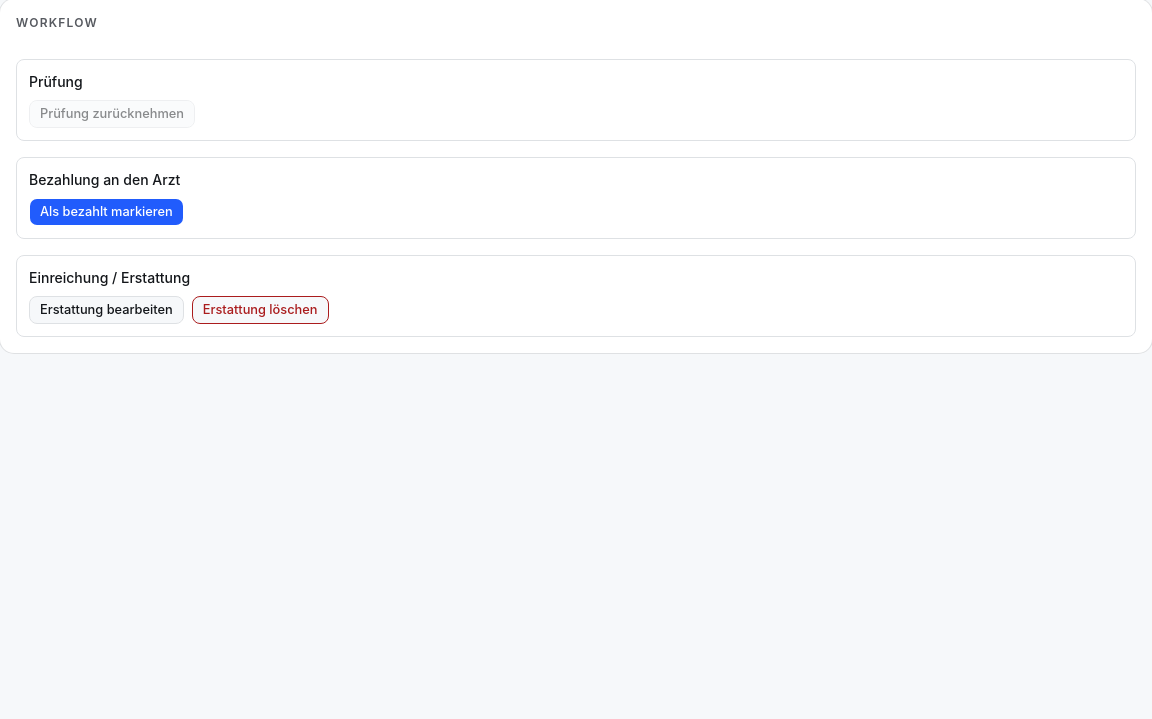
InvoiceStatusFlow — Einreichung / Erstattung track › opens the refund form pre-filled for editing from "Erstattung bearbeiten"
Step 1. Click the button "Erstattung bearbeiten" → click(106, 310), box top-left (29, 296), bottom-right (184, 324)
(page scrolled)
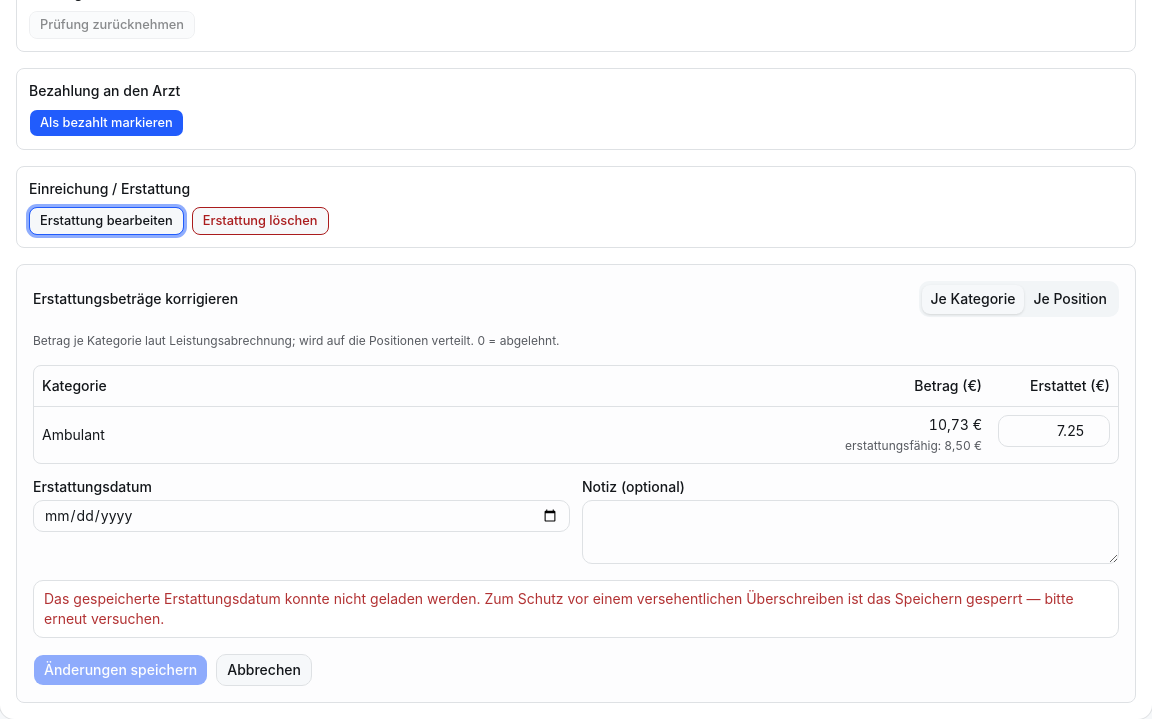
Result: the text "Erstattungsbeträge korrigieren" is shown at top-left (33, 289), bottom-right (238, 309)
Result: the number field named "Erstattungsbetrag für Kategorie Ambulant" holds "7.25" at top-left (998, 414), bottom-right (1110, 446)
Result: the button "Änderungen speichern" is shown at top-left (33, 654), bottom-right (208, 686)
